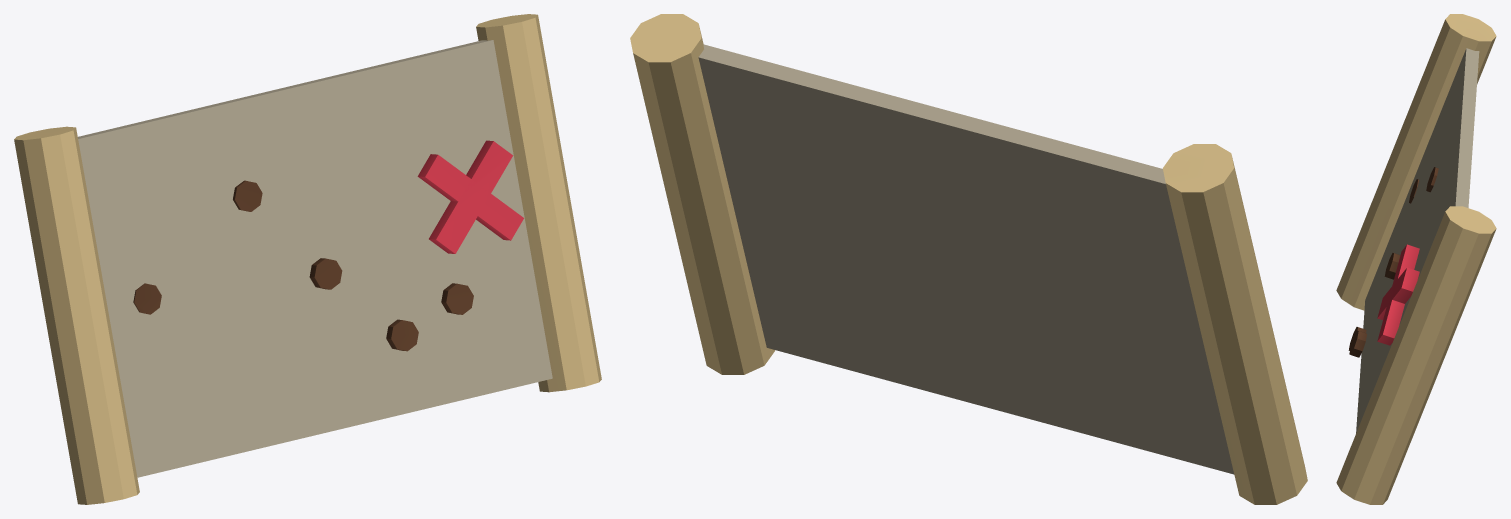
Rendered from icon_map.glb.
3 renders of one model, left to right at view 1: azimuth 30°, elevation 25°; view 2: azimuth 150°, elevation 25°; view 3: azimuth 270°, elevation 25°, orthographic. The views are drawn at different scales.
Visible parts, largest first — view 1: Map; view 2: Map; view 3: Map.
Boxes of the visible parts, x1,y1,x2,y2 form: Map: [14, 14, 601, 504]; Map: [630, 14, 1307, 504]; Map: [1336, 14, 1496, 504].
Size of the model in its own units: 1.11 by 0.6988 by 0.3522.
Materials: 1 (1 with a texture image).
